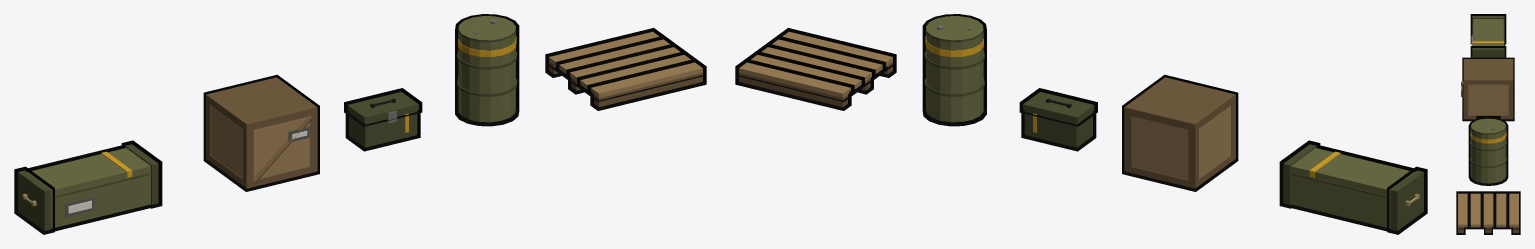
Rendered from jackal_supply.glb.
The picture shows the model from 3 angles, left to right: view 1: azimuth 30°, elevation 25°; view 2: azimuth 150°, elevation 25°; view 3: azimuth 270°, elevation 25°; orthographic projection. The views are drawn at different scales.
Parts seen in each view (by area): view 1: Supply_CrateSquare, Supply_CrateLong, Supply_Pallet, Supply_Drum, Supply_AmmoBox; view 2: Supply_CrateSquare, Supply_CrateLong, Supply_Pallet, Supply_Drum, Supply_AmmoBox; view 3: Supply_CrateSquare, Supply_Pallet, Supply_Drum, Supply_CrateLong, Supply_AmmoBox.
Part boxes in pixels (x1,y1,x2,y2): Supply_CrateSquare: (203, 74, 319, 191); Supply_CrateLong: (14, 140, 162, 234); Supply_Pallet: (545, 28, 706, 110); Supply_Drum: (455, 14, 519, 126); Supply_AmmoBox: (344, 88, 422, 151); Supply_CrateSquare: (1122, 74, 1238, 191); Supply_CrateLong: (1279, 140, 1427, 234); Supply_Pallet: (735, 28, 896, 110); Supply_Drum: (922, 14, 986, 126); Supply_AmmoBox: (1019, 88, 1097, 151); Supply_CrateSquare: (1461, 57, 1514, 121); Supply_Pallet: (1456, 191, 1520, 234); Supply_Drum: (1468, 117, 1508, 185); Supply_CrateLong: (1470, 14, 1506, 57); Supply_AmmoBox: (1476, 116, 1500, 118).
Size of the model in its own units: 7.53 by 0.955 by 1.05.
